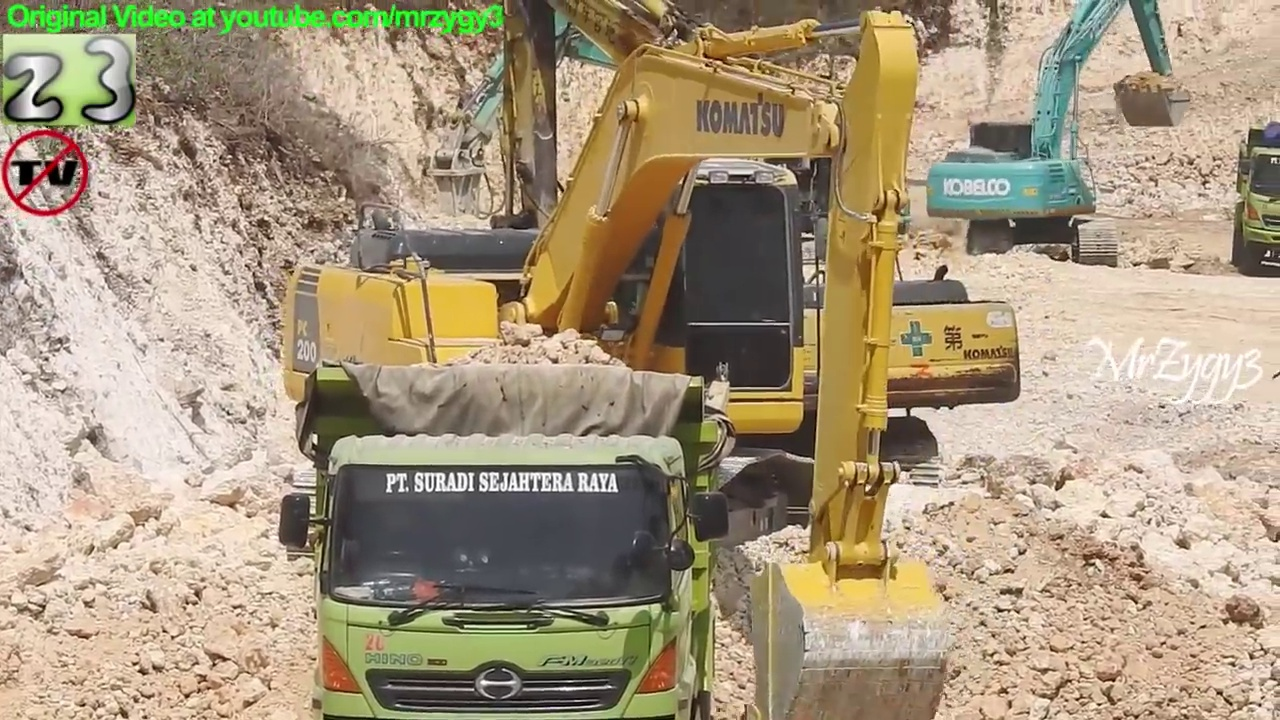excavator: (269, 2, 956, 720), (464, 1, 1033, 506), (415, 1, 919, 276), (919, 1, 1195, 274)
truck: (271, 354, 742, 720), (1229, 117, 1280, 282)
